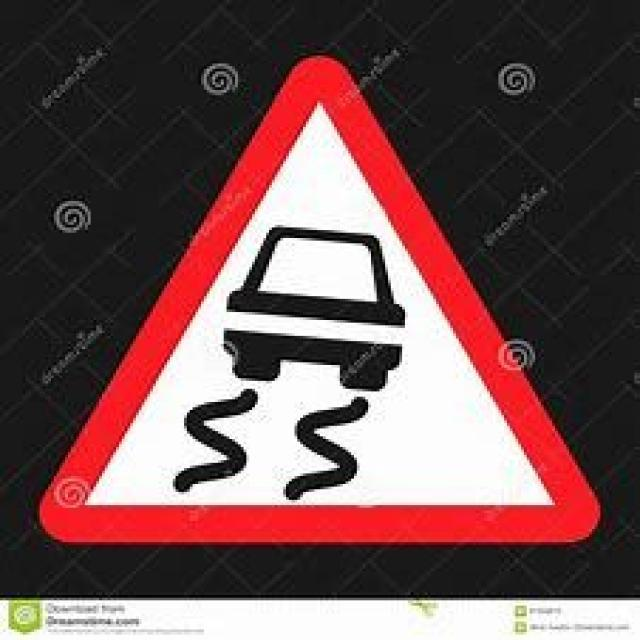slippery road: (40, 57, 604, 541)
